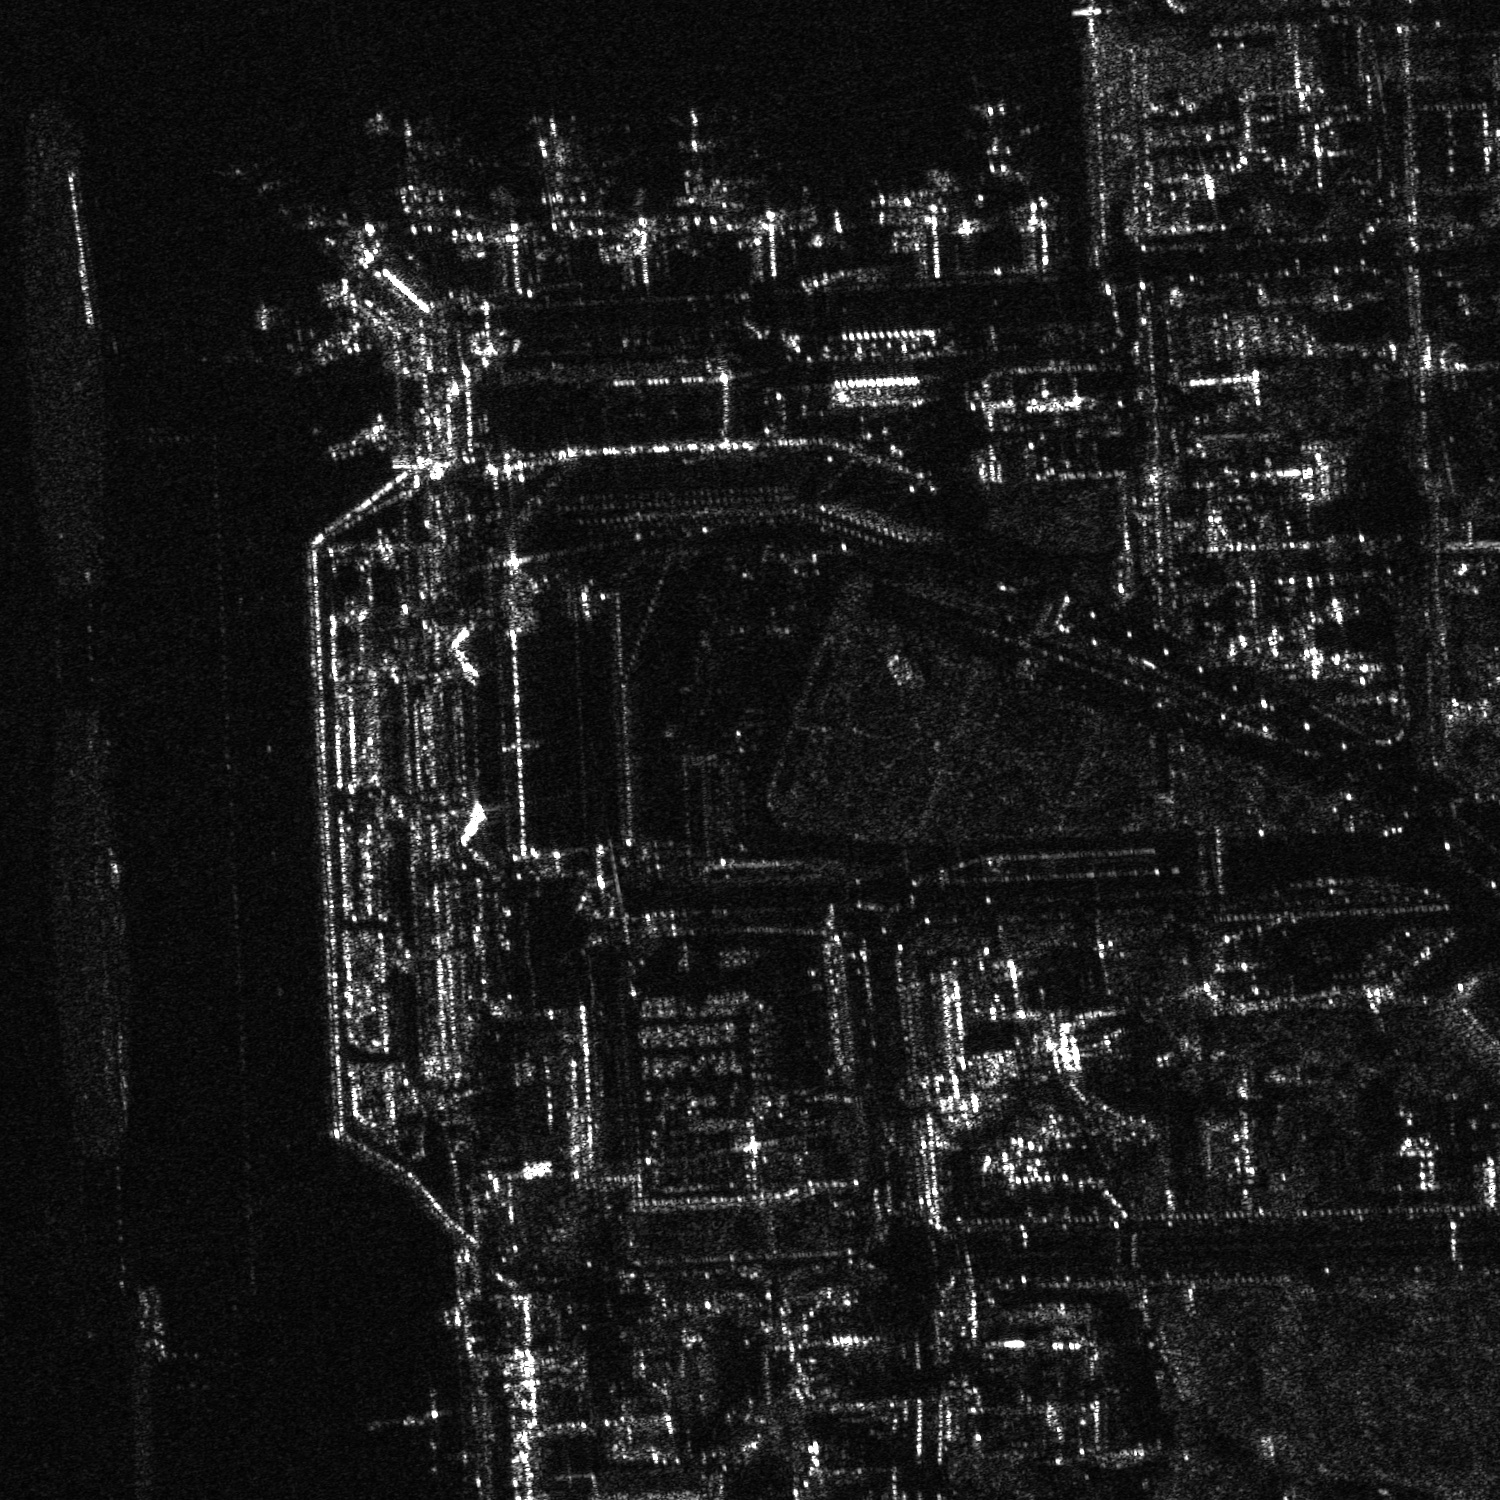A220: (946, 98, 1043, 187)
Boeing787: (658, 103, 738, 216)
other: (518, 113, 598, 238), (368, 111, 449, 212)
